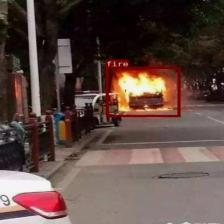fire: (106, 66, 180, 116)
